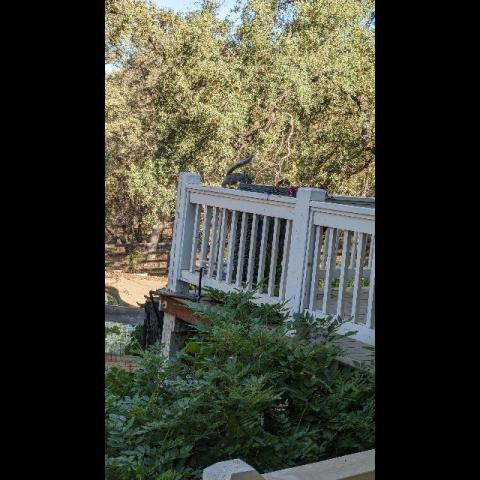small_animal: (221, 155, 256, 190)
